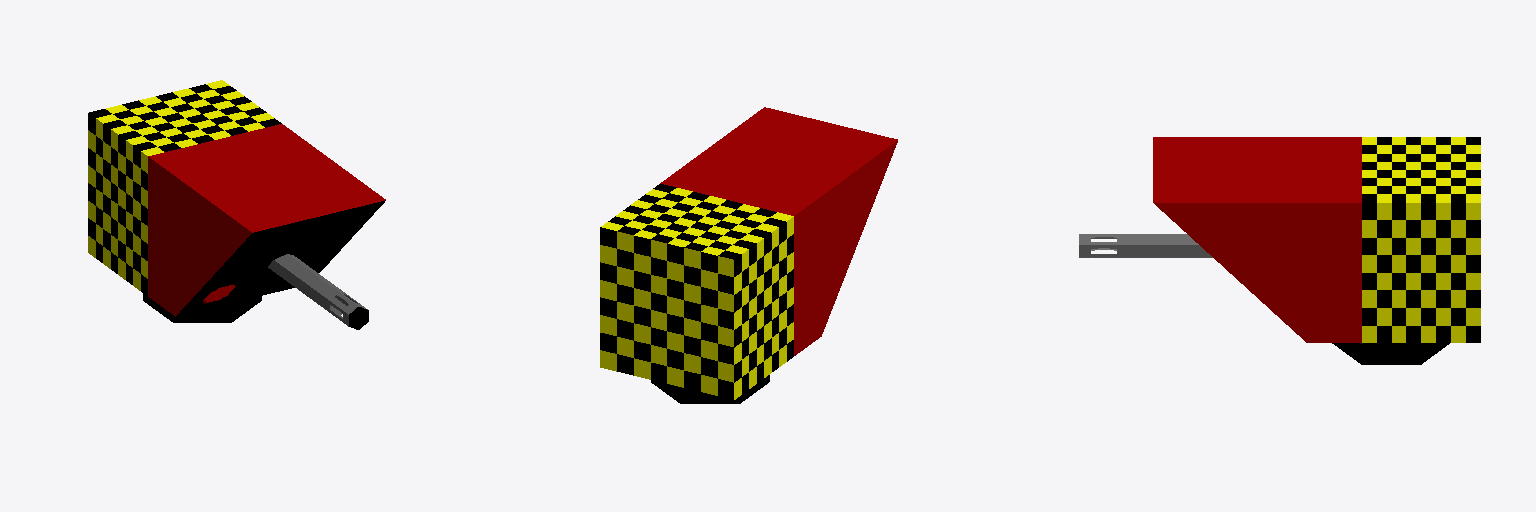
3 renders of one model, left to right at view 1: azimuth 30°, elevation 25°; view 2: azimuth 150°, elevation 25°; view 3: azimuth 270°, elevation 25°, orthographic.
Visible parts, largest first — view 1: Sentry; view 2: Sentry; view 3: Sentry.
Boxes of the visible parts, box(x1,y1,x2,y2) form: Sentry: box(88, 80, 385, 329); Sentry: box(600, 107, 897, 403); Sentry: box(1079, 137, 1480, 364).
Bounding box in the file's own units: 0.6298 × 0.7722 × 1.64.
Materials: 1 (1 with a texture image).